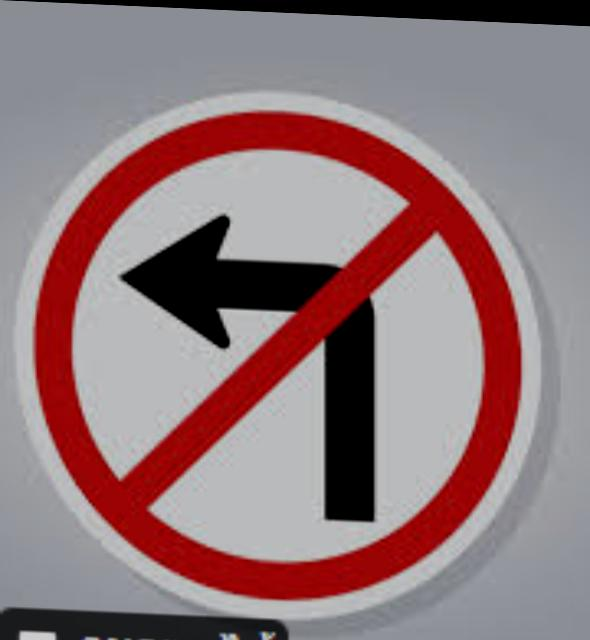not_turn_left: (12, 65, 554, 638)
